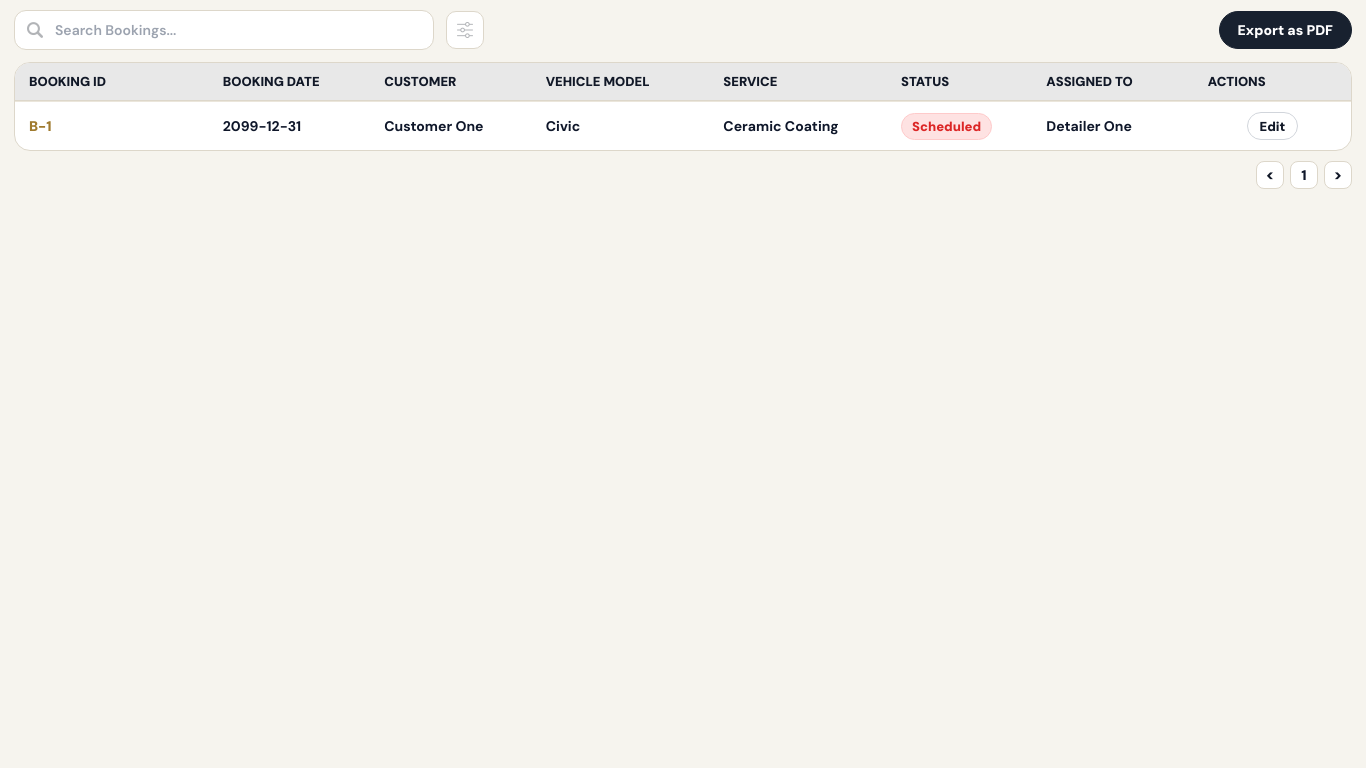
Test: Admin Service Tracking assignment editing › denies Sales Associate issue note controls if Admin Tracking is mounted outside routing
Click the button "Edit" at coordinates (1272, 126), box x1=1246 y1=112 x2=1298 y2=140
(page scrolled)
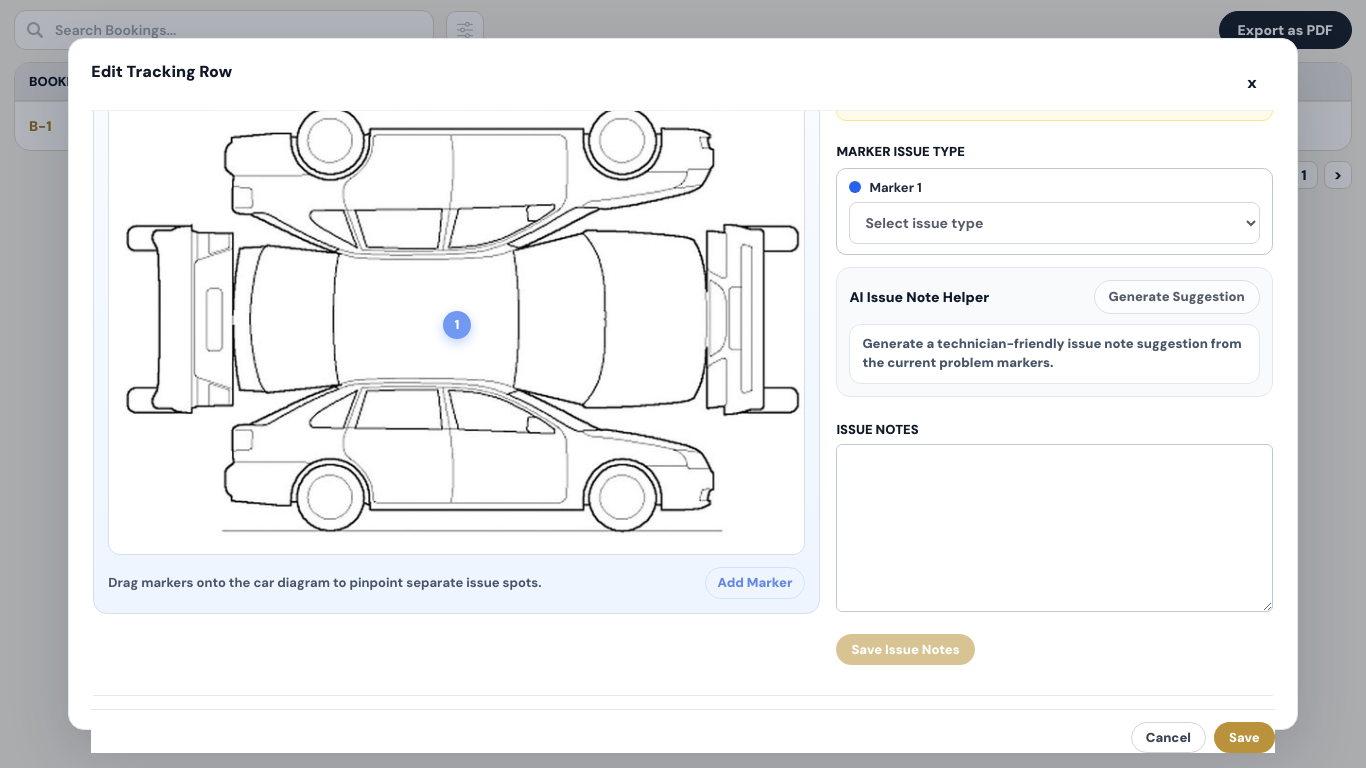
Expected: the button "Add Marker" is disabled, x1=705 y1=567 x2=805 y2=599
Expected: the button "Generate Suggestion" is disabled, x1=1094 y1=280 x2=1260 y2=314
Expected: the button "Save Issue Notes" is disabled, x1=836 y1=634 x2=975 y2=665
